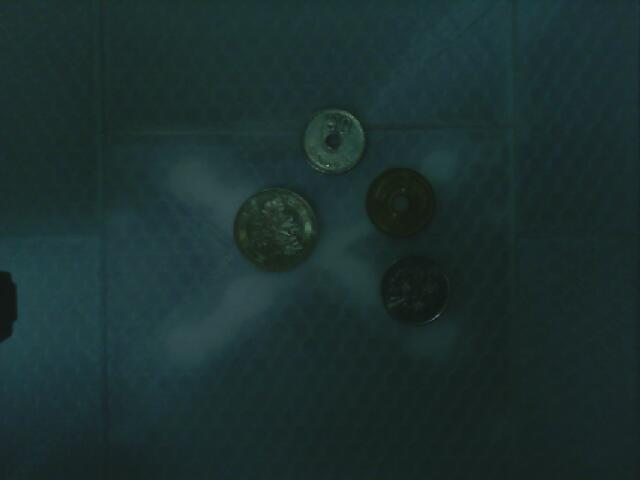100yen: (381, 257, 451, 327)
500yen: (234, 188, 319, 271)
50yen: (301, 109, 367, 175)
5yen: (366, 169, 436, 239)
